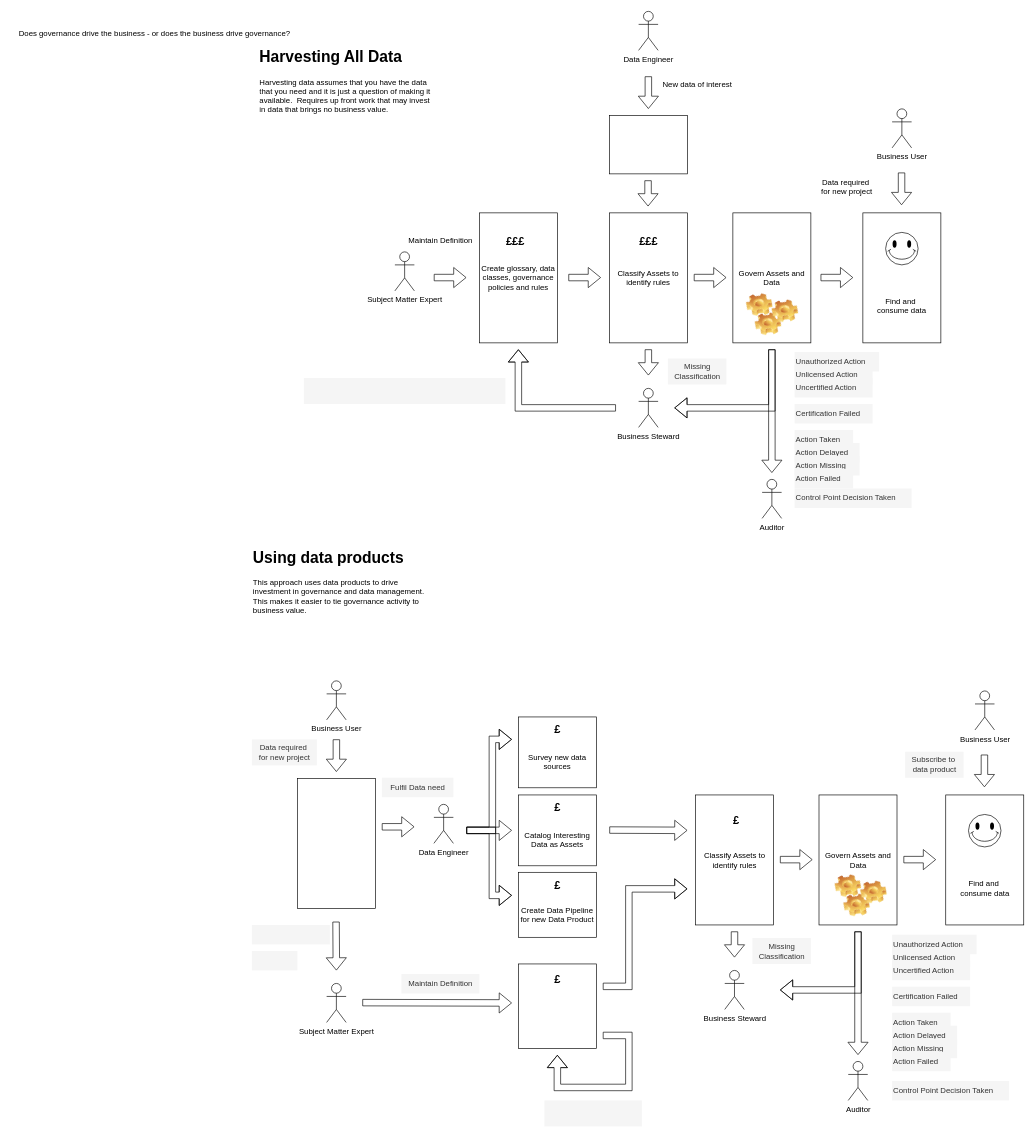
Some shapes in this 1035 by 1138 pixel diagram are drawn without their labels. The shapes that lost their labels are listed below. From the top down, each one's box as (x1, y1, x2, y2) in pixels, then its label:
(609, 115, 687, 174): Catalog Data as Assets
(304, 378, 505, 404): Missing Definition (eg glossary term, data class, governance policy/rule)
(297, 778, 375, 908): Build new Data Product Specification
(252, 925, 330, 944): Missing Definition
(252, 951, 297, 970): Give help
(518, 963, 596, 1048): Create missing glossary, data classes, governance policies and rules
(544, 1100, 642, 1126): Corporate / Strategic Review and investment
